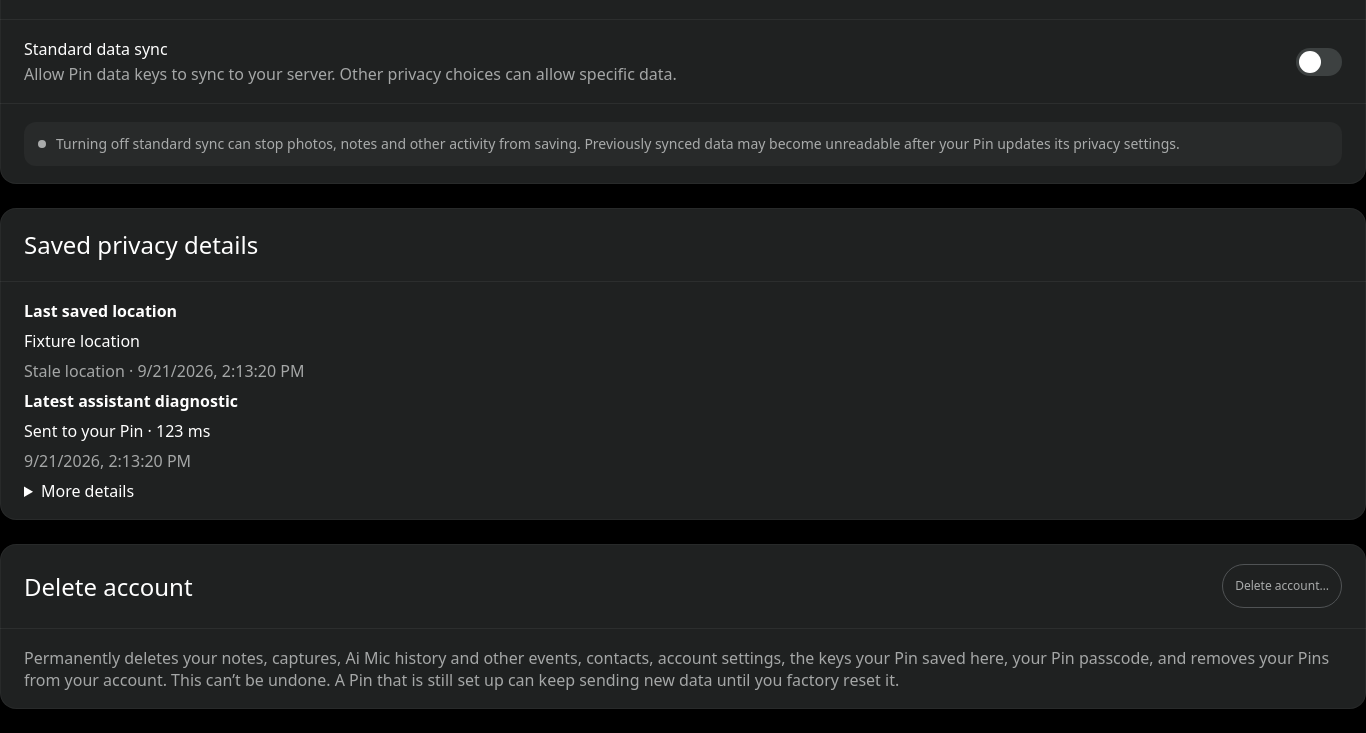
Test: shows the saved location freshness and latest content-free diagnostics from Cosmos
This screenshot has width=1366, height=733.
(page scrolled)
Expected: the text "Fixture location" is shown, [24, 330, 140, 352]
Expected: the text "Stale location · 9/21/2026, 2:13:20 PM" is shown, [24, 360, 304, 382]
Click the heading "More details" at (88,491), box [41, 480, 134, 502]
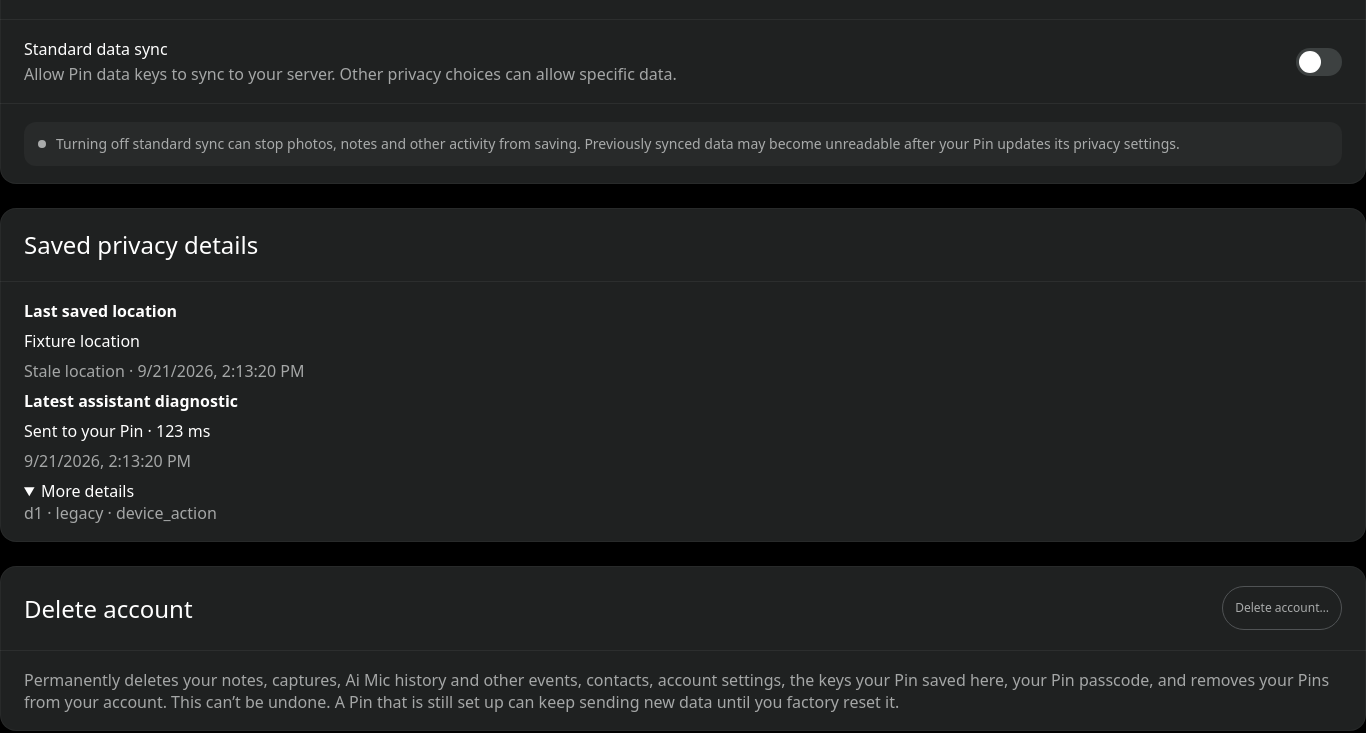
Expected: the text "d1 · legacy · device_action" is shown, [24, 502, 217, 524]
